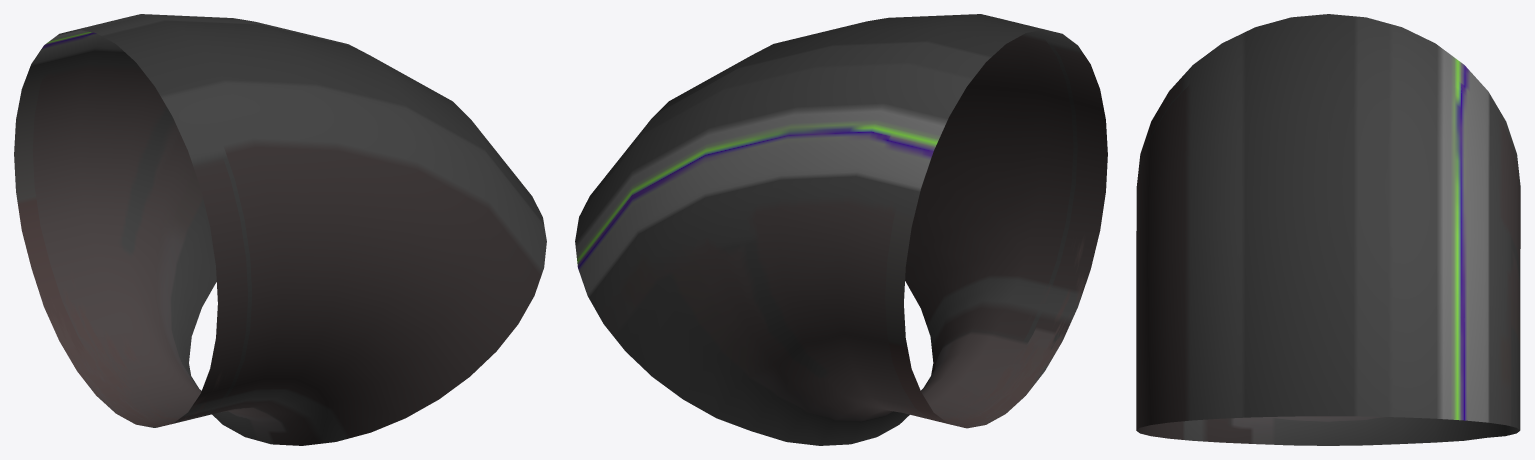
Rendered from SM_Pipe_Angle2_R.fbx.
3 renders of one model, left to right at view 1: azimuth 30°, elevation 25°; view 2: azimuth 150°, elevation 25°; view 3: azimuth 270°, elevation 25°, orthographic. The views are drawn at different scales.
Visible parts, largest first — view 1: SM_Pipe_Angle_R.001; view 2: SM_Pipe_Angle_R.001; view 3: SM_Pipe_Angle_R.001.
Part boxes in pixels (x1=…): SM_Pipe_Angle_R.001: x1=14, y1=14, x2=546, y2=445; SM_Pipe_Angle_R.001: x1=575, y1=14, x2=1107, y2=445; SM_Pipe_Angle_R.001: x1=1136, y1=14, x2=1520, y2=445.
Size of the model in its own units: 3.42 by 3.33 by 3.03.
